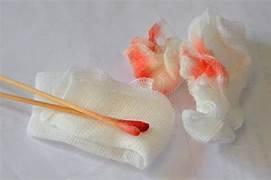cotton: (28, 13, 249, 168), (126, 12, 250, 141), (28, 70, 174, 168), (180, 12, 250, 141), (125, 21, 181, 94), (129, 78, 153, 89)
